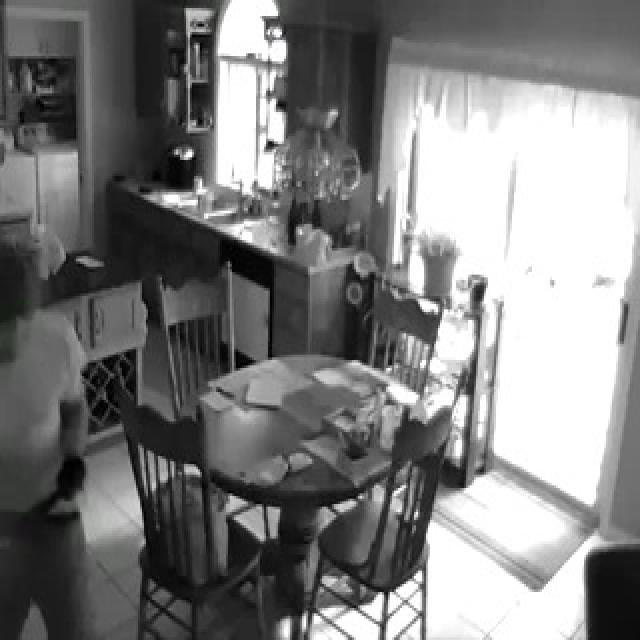thief: (0, 248, 56, 364)
